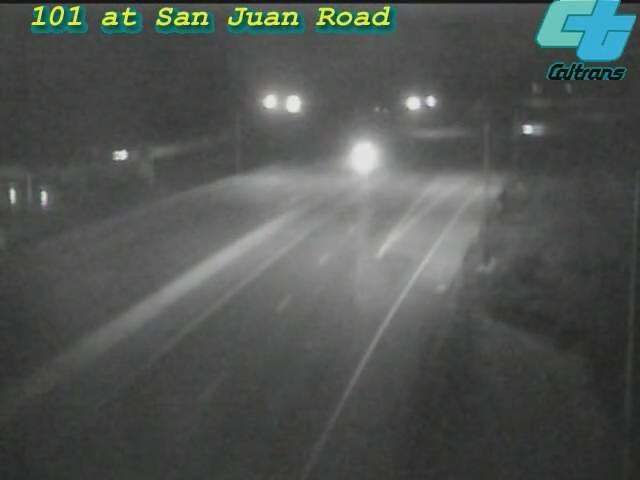vehicle: (329, 131, 379, 181), (510, 105, 560, 155)
